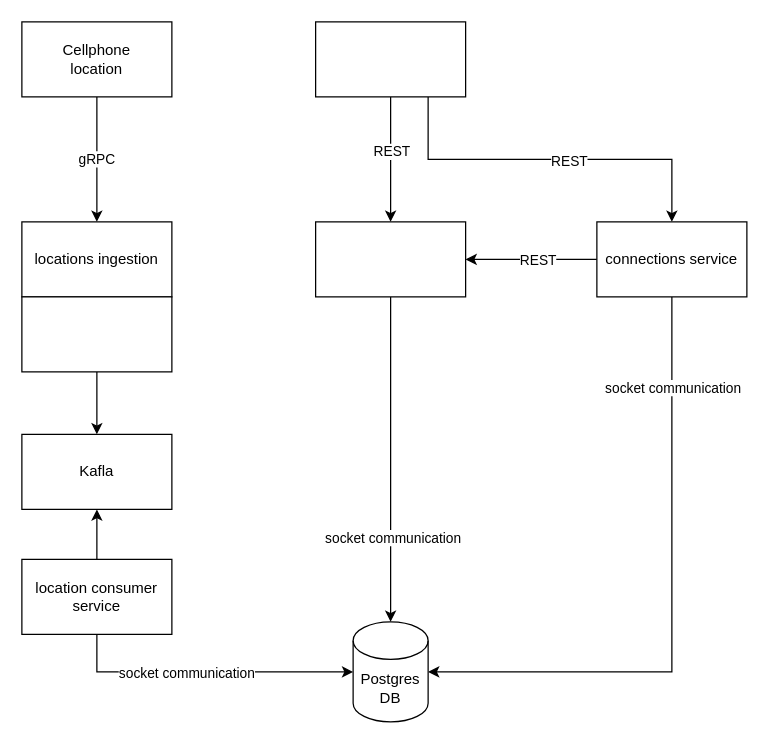
This 769x744 diagram has some shape labels left out. The box of each missing label's shape, as (x1, y1, x2, y2) in pixels:
location producer service: (21, 296, 172, 372)
persons service: (314, 221, 466, 297)
UI: (314, 21, 466, 97)
